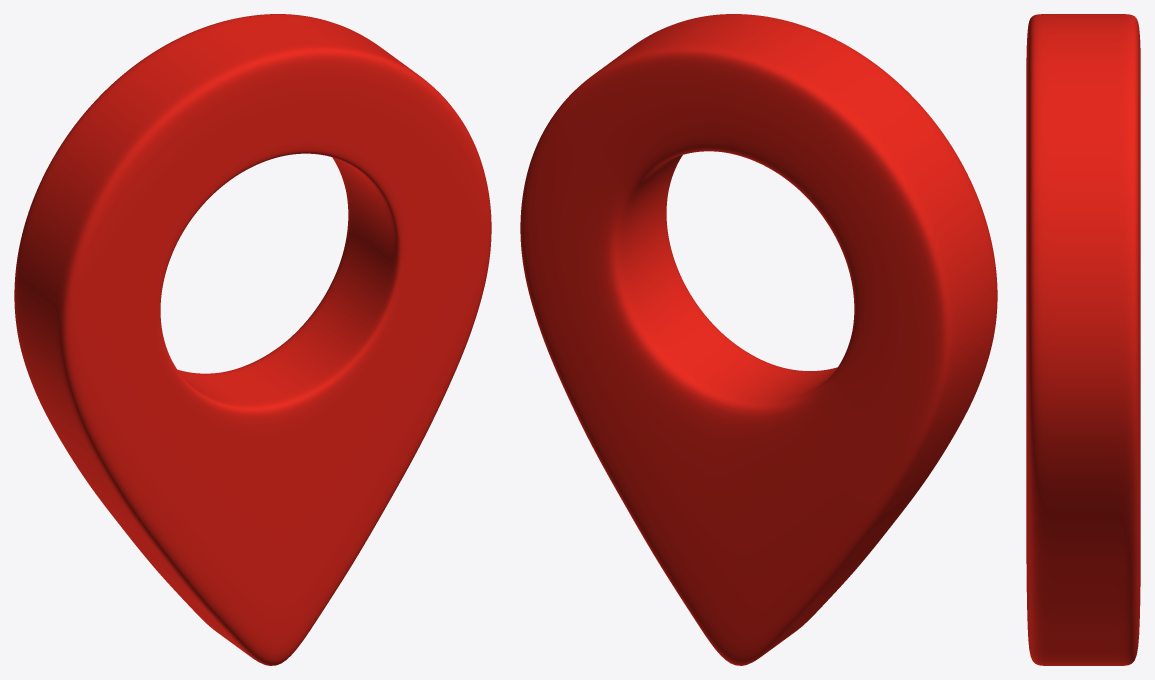
File: map_pin.fbx
3 renders of one model, left to right at view 1: azimuth 30°, elevation 25°; view 2: azimuth 150°, elevation 25°; view 3: azimuth 270°, elevation 25°, orthographic. The views are drawn at different scales.
Visible parts, largest first — view 1: map_pin; view 2: map_pin; view 3: map_pin.
Part boxes in pixels (x1,y1,x2,y2): map_pin: [14, 14, 491, 665]; map_pin: [520, 14, 997, 665]; map_pin: [1026, 14, 1140, 665].
Bounding box in the file's own units: 65.43 × 89.04 × 14.77.
